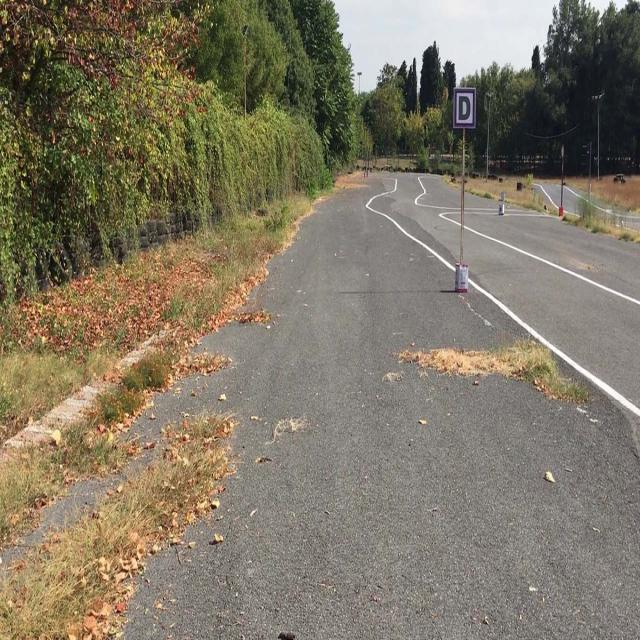durak: (454, 88, 476, 128)
